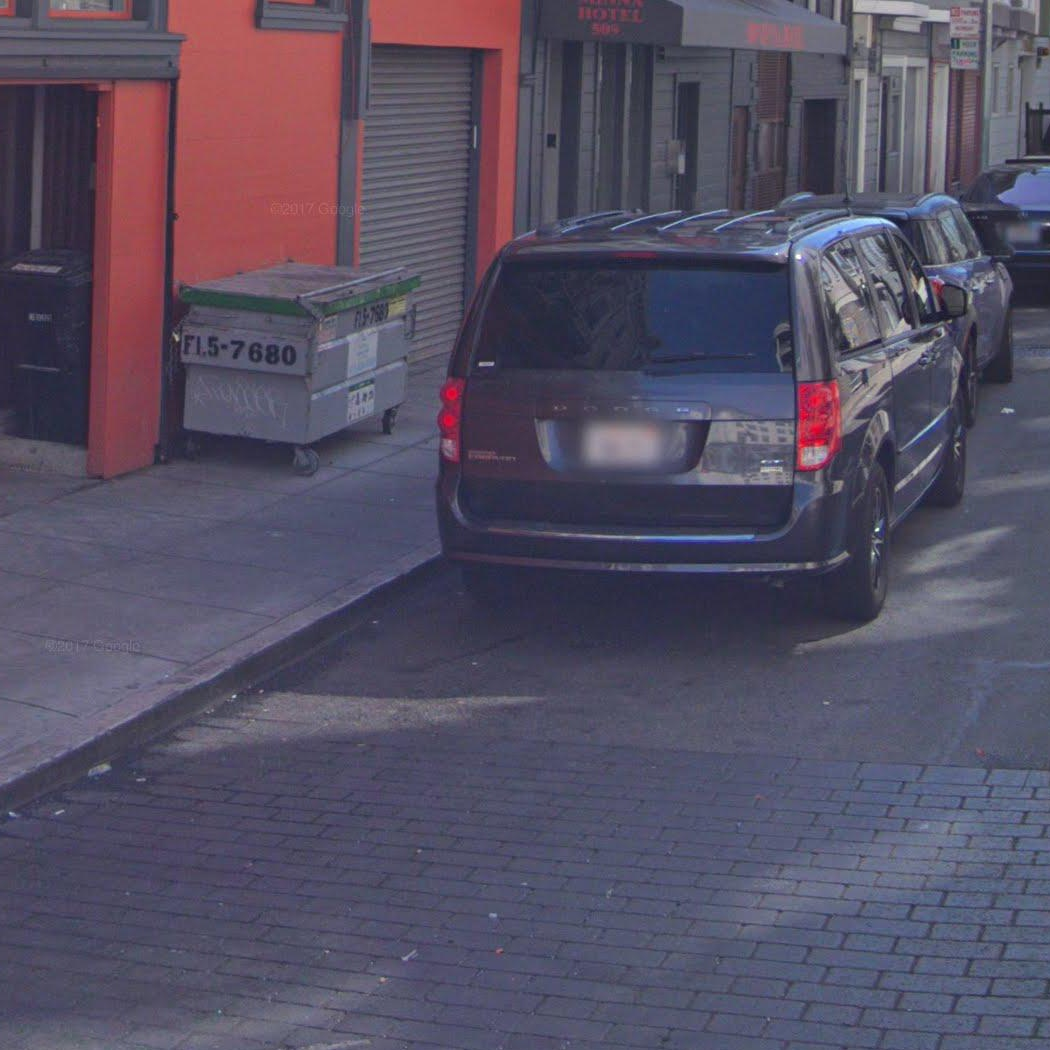1 Hour Parking: (950, 38, 981, 69)
No Parking: (949, 6, 979, 37)
